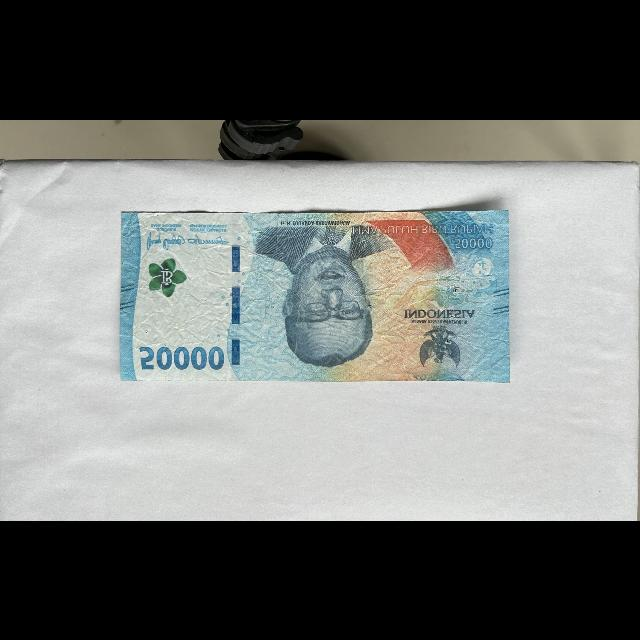Palsu-50k: (117, 208, 511, 383)
Tinta-Palsu-50k: (149, 257, 188, 297)
